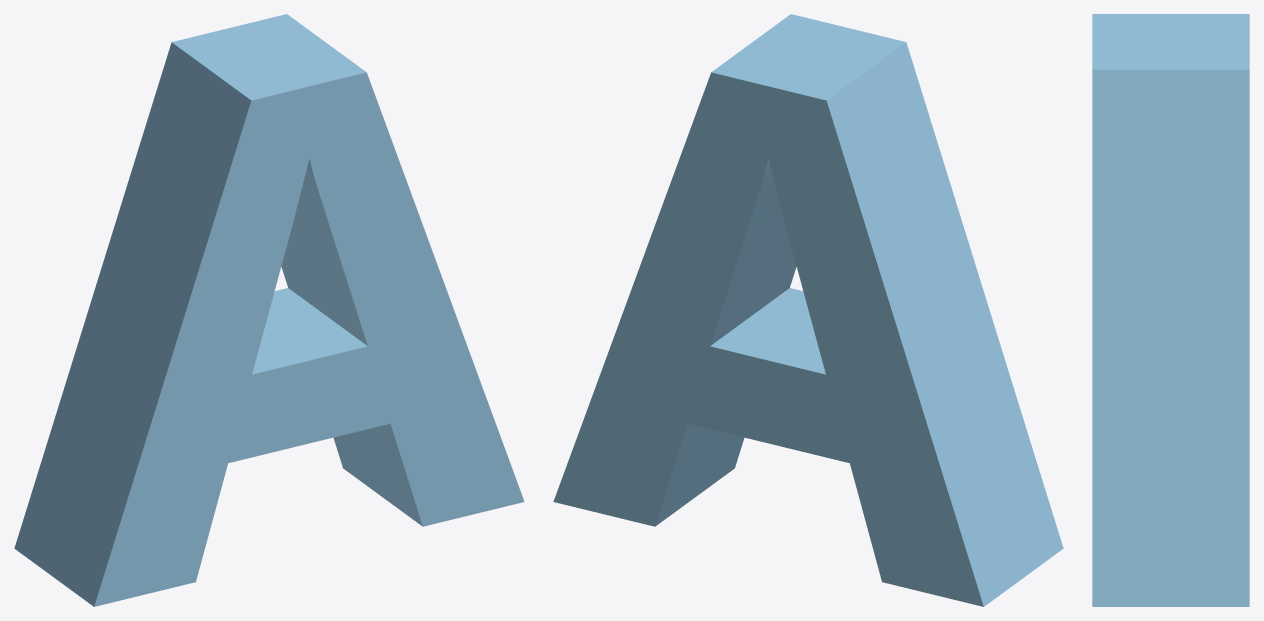
File: smaller_a.obj
3 renders of one model, left to right at view 1: azimuth 30°, elevation 25°; view 2: azimuth 150°, elevation 25°; view 3: azimuth 270°, elevation 25°, orthographic.
Visible parts, largest first — view 1: mesh4, mesh13, mesh12, mesh0, mesh1, mesh9; view 2: mesh5, mesh13, mesh12, mesh0, mesh1, mesh9; view 3: mesh11, mesh12.
Boxes of the visible parts, x1=… form: mesh4: x1=94, y1=72, x2=524, y2=606; mesh13: x1=14, y1=42, x2=251, y2=606; mesh12: x1=172, y1=14, x2=366, y2=100; mesh0: x1=281, y1=178, x2=367, y2=345; mesh1: x1=252, y1=288, x2=367, y2=374; mesh9: x1=333, y1=423, x2=422, y2=526; mesh5: x1=553, y1=72, x2=983, y2=606; mesh13: x1=826, y1=42, x2=1063, y2=606; mesh12: x1=711, y1=14, x2=905, y2=100; mesh0: x1=710, y1=178, x2=796, y2=345; mesh1: x1=710, y1=288, x2=825, y2=374; mesh9: x1=655, y1=423, x2=744, y2=526; mesh11: x1=1092, y1=69, x2=1249, y2=606; mesh12: x1=1092, y1=14, x2=1249, y2=69.
Bounding box in the file's own units: 0.1246 × 0.1294 × 0.04.
